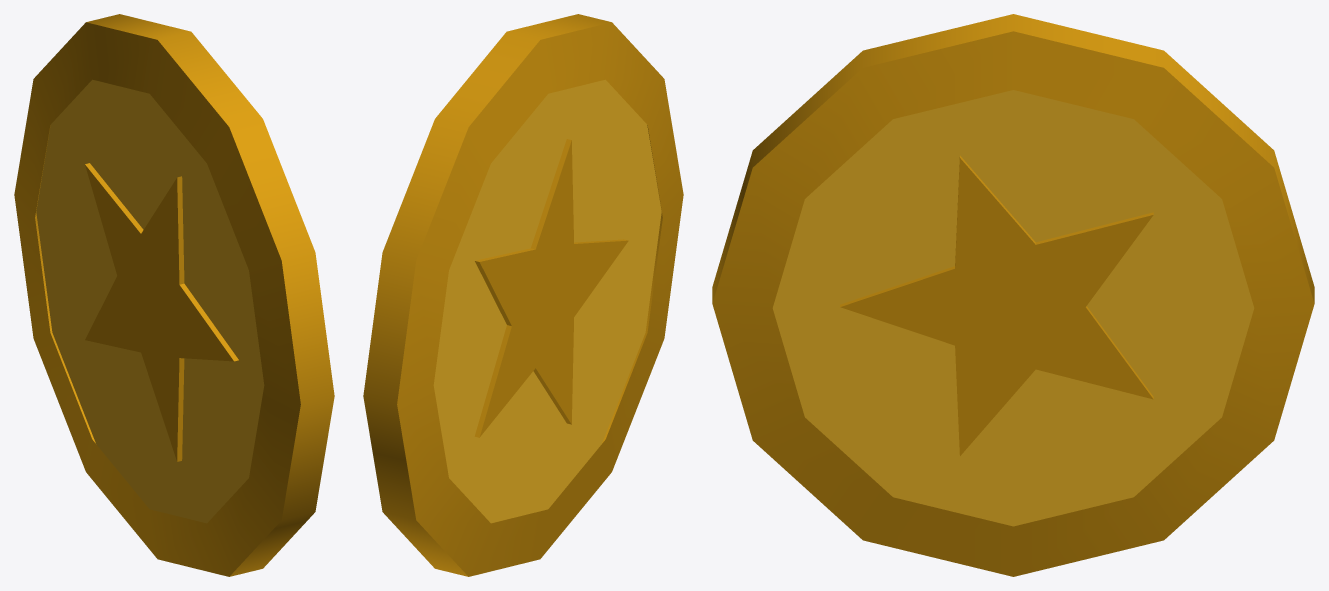
Rendered from coin.glb.
3 views of the same model, side by side, from view 1: azimuth 30°, elevation 25°; view 2: azimuth 150°, elevation 25°; view 3: azimuth 270°, elevation 25° (orthographic). The views are drawn at different scales.
Parts seen in each view (by area): view 1: coin_rim, coin_gold; view 2: coin_rim, coin_gold; view 3: coin_rim, coin_gold.
Boxes of the visible parts, x1=… form: coin_rim: x1=14, y1=14, x2=334, y2=576; coin_gold: x1=36, y1=79, x2=264, y2=523; coin_rim: x1=363, y1=14, x2=683, y2=576; coin_gold: x1=433, y1=79, x2=661, y2=523; coin_rim: x1=712, y1=14, x2=1314, y2=576; coin_gold: x1=772, y1=90, x2=1254, y2=526.
Size of the model in its own units: 0.25 by 2.5 by 2.5.
